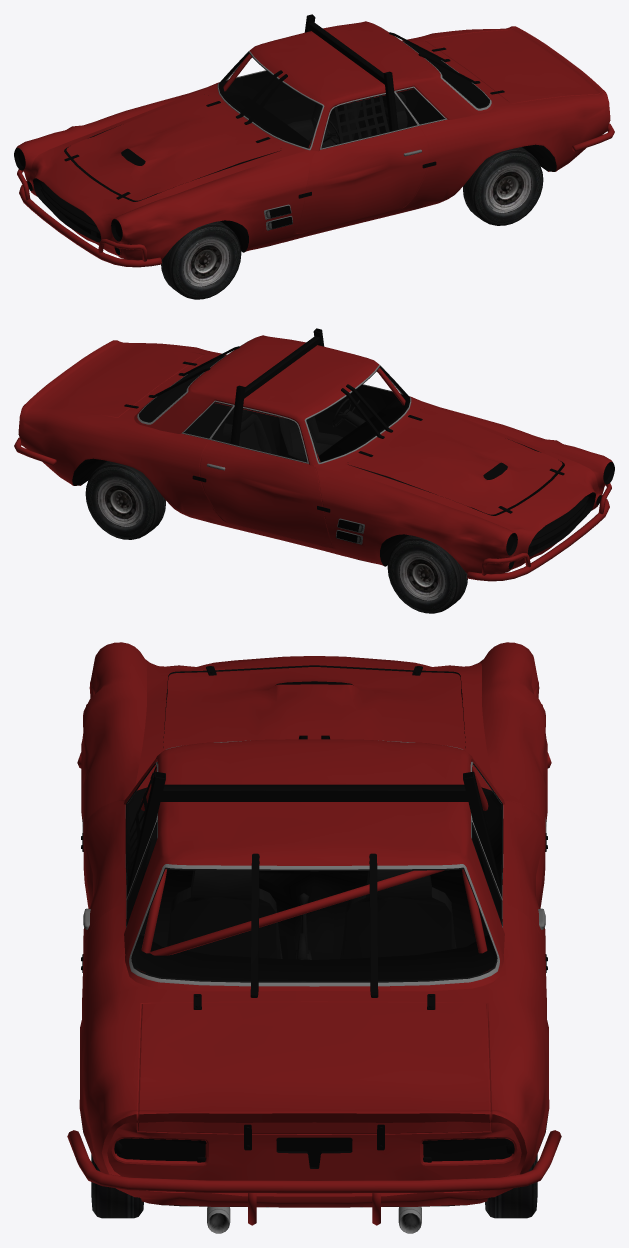
Rendered from derbycar.glb.
3 views of the same model, one above another, from view 1: azimuth 30°, elevation 25°; view 2: azimuth 150°, elevation 25°; view 3: azimuth 270°, elevation 25° (orthographic). The views are drawn at different scales.
Visible parts, largest first — view 1: body_Material #1404_0, interior_Material #1410_0, wheel_02_Material #1409_0, wheel_01_Material #1409_0, interior_plastic_0, derby_kit, bottom_Material #1410_0, bumpers, windows_frame_chrome_0, void_void_0, windows_frame_plastic_0; view 2: body_Material #1404_0, interior_Material #1410_0, wheel_03_Material #1409_0, wheel_04_Material #1409_0, interior_plastic_0, derby_kit, bottom_Material #1410_0, bumpers, windows_frame_chrome_0, void_void_0, windows_frame_plastic_0; view 3: body_Material #1404_0, interior_Material #1410_0, interior_plastic_0, derby_kit, bumpers, bottom_Material #1410_0, windows_frame_chrome_0, windows_frame_plastic_0, chrome_chrome_0, wheel_02_Material #1409_0, wheel_03_Material #1409_0, void_void_0.
Boxes of the visible parts, x1,y1,x2,y2 form: body_Material #1404_0: (16,21,610,260); interior_Material #1410_0: (219,41,489,147); wheel_02_Material #1409_0: (463,147,543,225); wheel_01_Material #1409_0: (161,221,241,299); interior_plastic_0: (284,84,407,148); derby_kit: (64,14,504,199); bottom_Material #1410_0: (14,144,556,254); bumpers: (17,53,614,267); windows_frame_chrome_0: (217,24,491,150); void_void_0: (43,125,292,239); windows_frame_plastic_0: (218,52,489,148); body_Material #1404_0: (18,335,612,574); interior_Material #1410_0: (139,355,409,461); wheel_03_Material #1409_0: (85,461,165,539); wheel_04_Material #1409_0: (387,535,467,613); interior_plastic_0: (222,398,365,462); derby_kit: (124,328,564,513); bottom_Material #1410_0: (72,458,614,568); bumpers: (14,367,611,581); windows_frame_chrome_0: (137,338,411,464); void_void_0: (336,439,585,553); windows_frame_plastic_0: (139,366,410,462); body_Material #1404_0: (79,642,549,1207); interior_Material #1410_0: (127,787,501,981); interior_plastic_0: (130,762,456,981); derby_kit: (81,666,547,1150); bumpers: (67,704,561,1225); bottom_Material #1410_0: (80,936,548,1207); windows_frame_chrome_0: (125,740,503,986); windows_frame_plastic_0: (125,763,503,982); chrome_chrome_0: (82,817,546,1233); wheel_02_Material #1409_0: (91,1154,143,1218); wheel_03_Material #1409_0: (485,1154,537,1218); void_void_0: (82,665,546,826).
Bounding box in the file's own units: 177 × 55.53 × 74.42.
6 materials, 2 textured.
